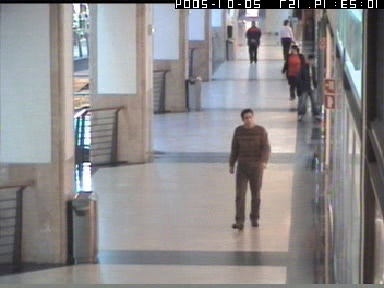person: (229, 106, 270, 229), (297, 53, 324, 120), (281, 45, 307, 99), (277, 20, 297, 62), (246, 21, 260, 63), (223, 8, 234, 39)
